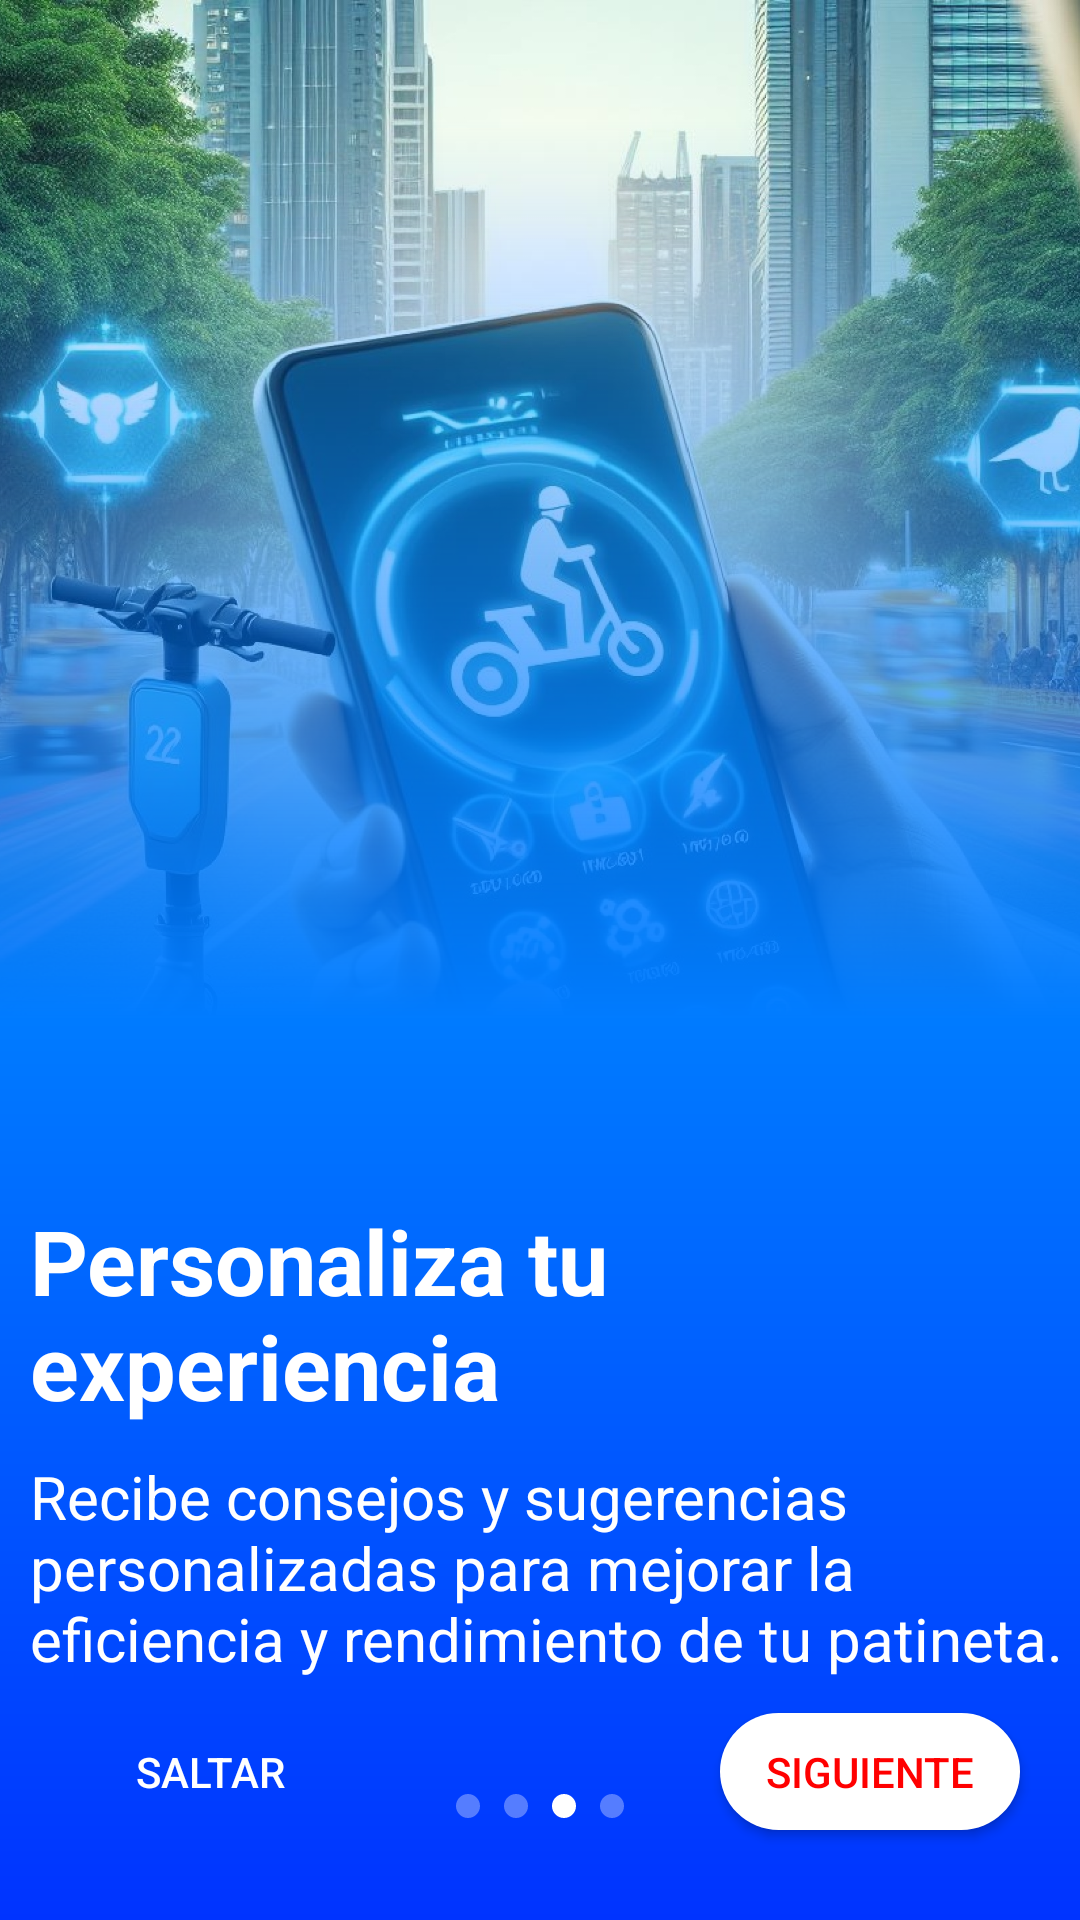

Icons on this 1080 × 1920 Android screen, each with the point to tap as (x=x, y=y):
indicator: (x=468, y=1806), (x=516, y=1806), (x=564, y=1806), (x=612, y=1806)
